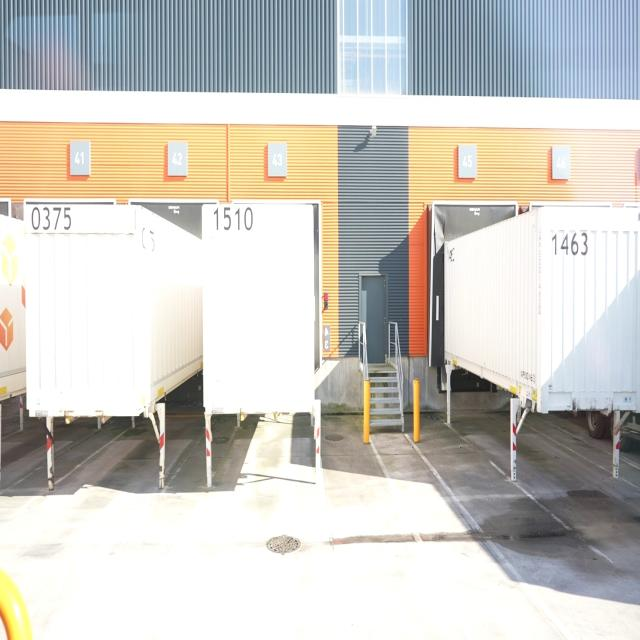Code: (211, 202, 256, 236), (29, 202, 73, 236), (547, 228, 591, 260)
